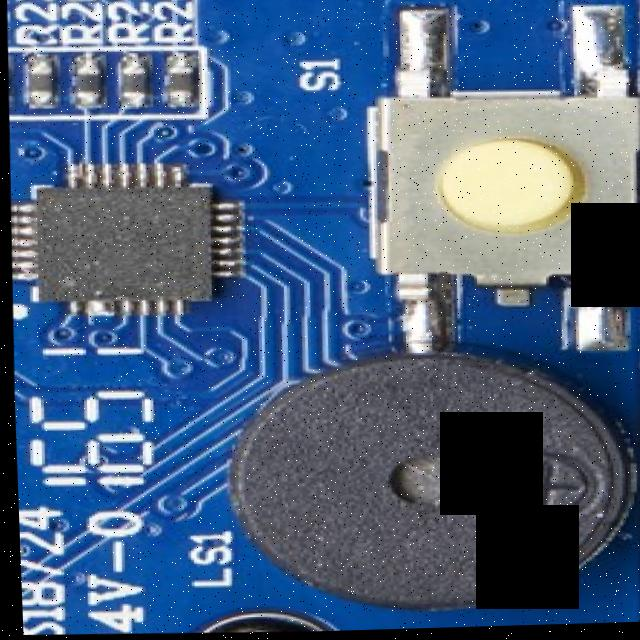2235: (350, 72, 640, 305)
IC: (26, 168, 232, 312)
buzzer: (218, 340, 640, 616)
resistor IR1: (67, 57, 103, 101), (23, 55, 54, 103), (163, 61, 198, 102), (115, 62, 148, 103)
